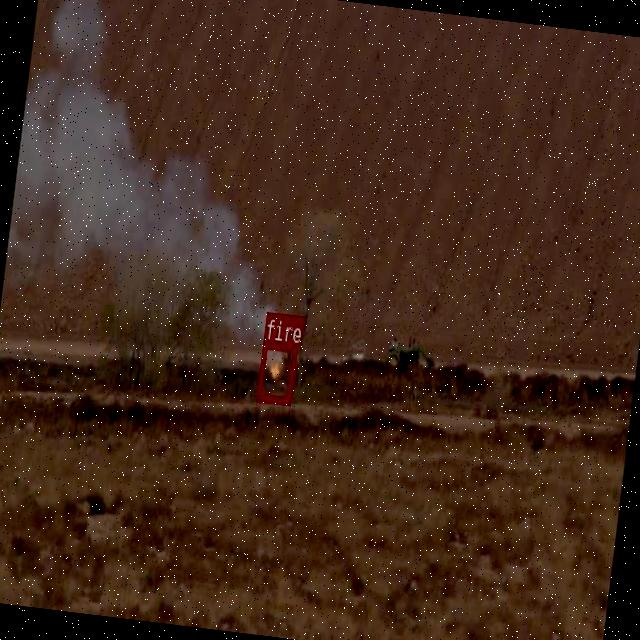fire: (255, 338, 297, 404)
